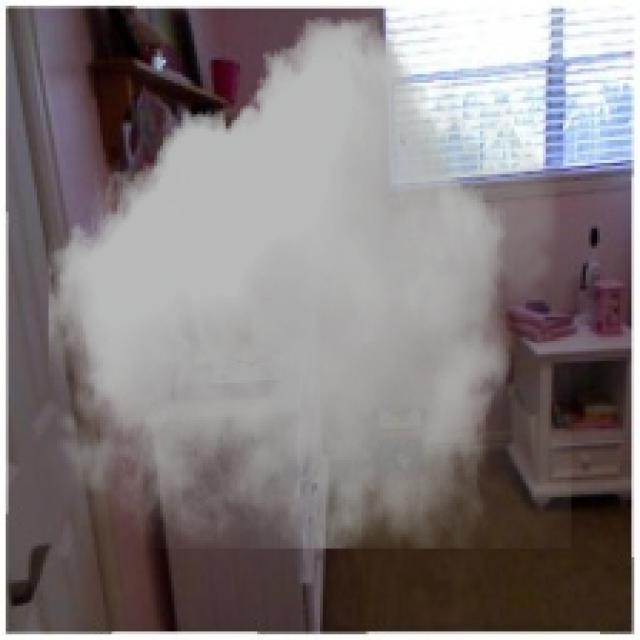smoke: (40, 17, 571, 549)
